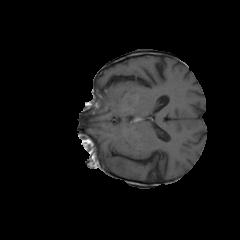glioma: (105, 131, 144, 179)
